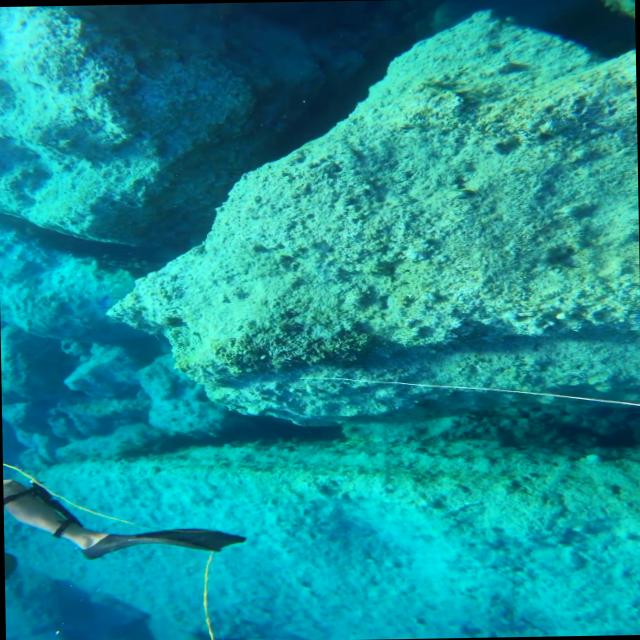Balon Baligi: (98, 294, 111, 311)
